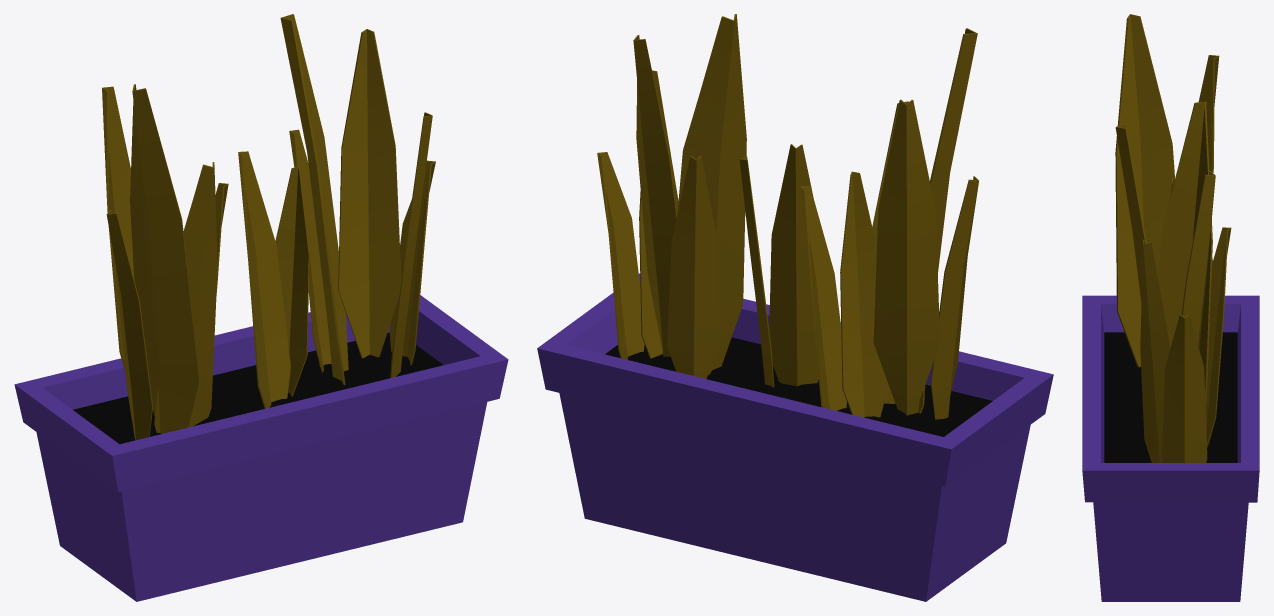
File: plant2.fbx
3 views of the same model, side by side, from view 1: azimuth 30°, elevation 25°; view 2: azimuth 150°, elevation 25°; view 3: azimuth 270°, elevation 25° (orthographic). The views are drawn at different scales.
Visible parts, largest first — view 1: plant2; view 2: plant2; view 3: plant2.
Boxes of the visible parts, box(x1,y1,x2,y2) form: plant2: box(14, 14, 508, 601); plant2: box(537, 14, 1053, 601); plant2: box(1082, 14, 1259, 601).
Bounding box in the file's own units: 71.53 × 85.83 × 30.65.
